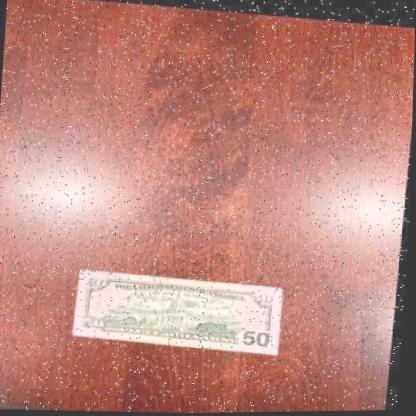dollar_back: (76, 266, 291, 355)
